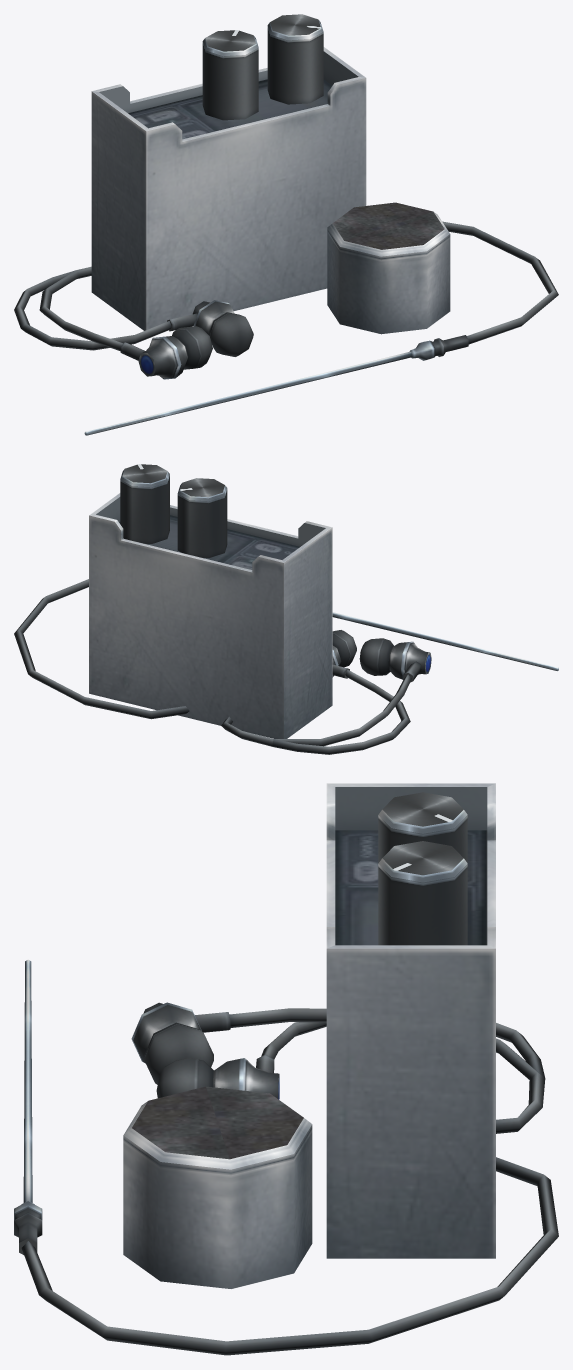
Rendered from BaoSheShouFaShi_qietingqi_01.FBX.
The picture shows the model from 3 angles, top to bottom: view 1: azimuth 30°, elevation 25°; view 2: azimuth 150°, elevation 25°; view 3: azimuth 270°, elevation 25°; orthographic projection. The views are drawn at different scales.
Visible parts, largest first — view 1: BaoSheShouFaShi_qietingqi_01; view 2: BaoSheShouFaShi_qietingqi_01; view 3: BaoSheShouFaShi_qietingqi_01.
Boxes of the visible parts, x1,y1,x2,y2 form: BaoSheShouFaShi_qietingqi_01: (14,14,558,435); BaoSheShouFaShi_qietingqi_01: (14,464,558,754); BaoSheShouFaShi_qietingqi_01: (14,783,558,1355).
Bounding box in the file's own units: 114 × 50.71 × 67.18.
Materials: 1 (1 with a texture image).
